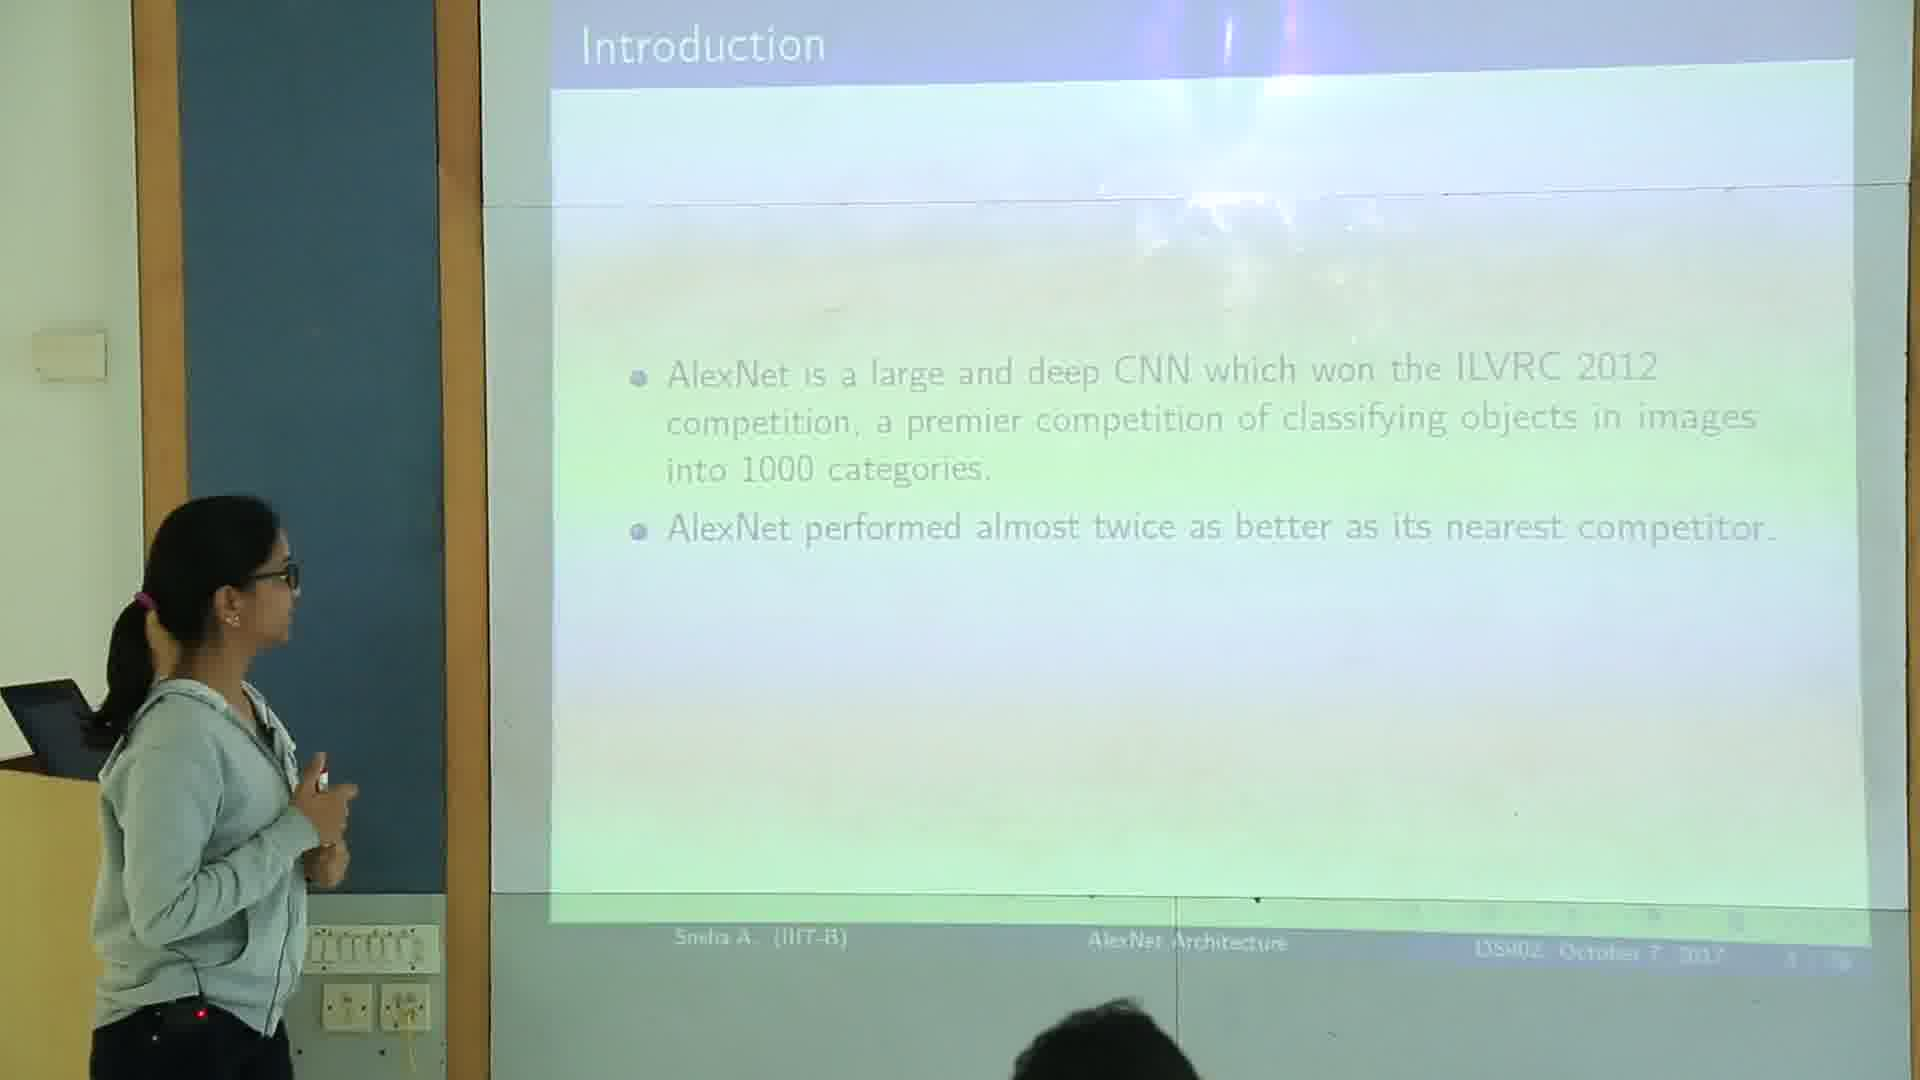slide: (549, 3, 1875, 976)
